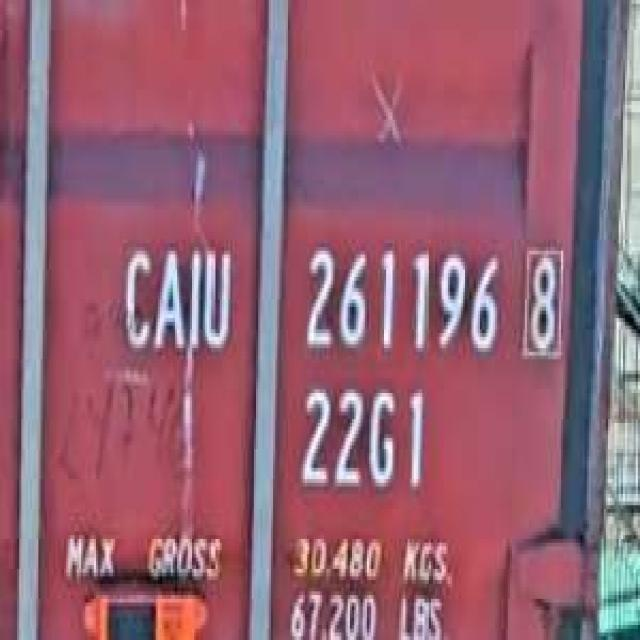dv: (516, 236, 568, 363)
owner: (115, 228, 237, 363)
serial: (296, 232, 504, 367)
size: (292, 378, 431, 505)
